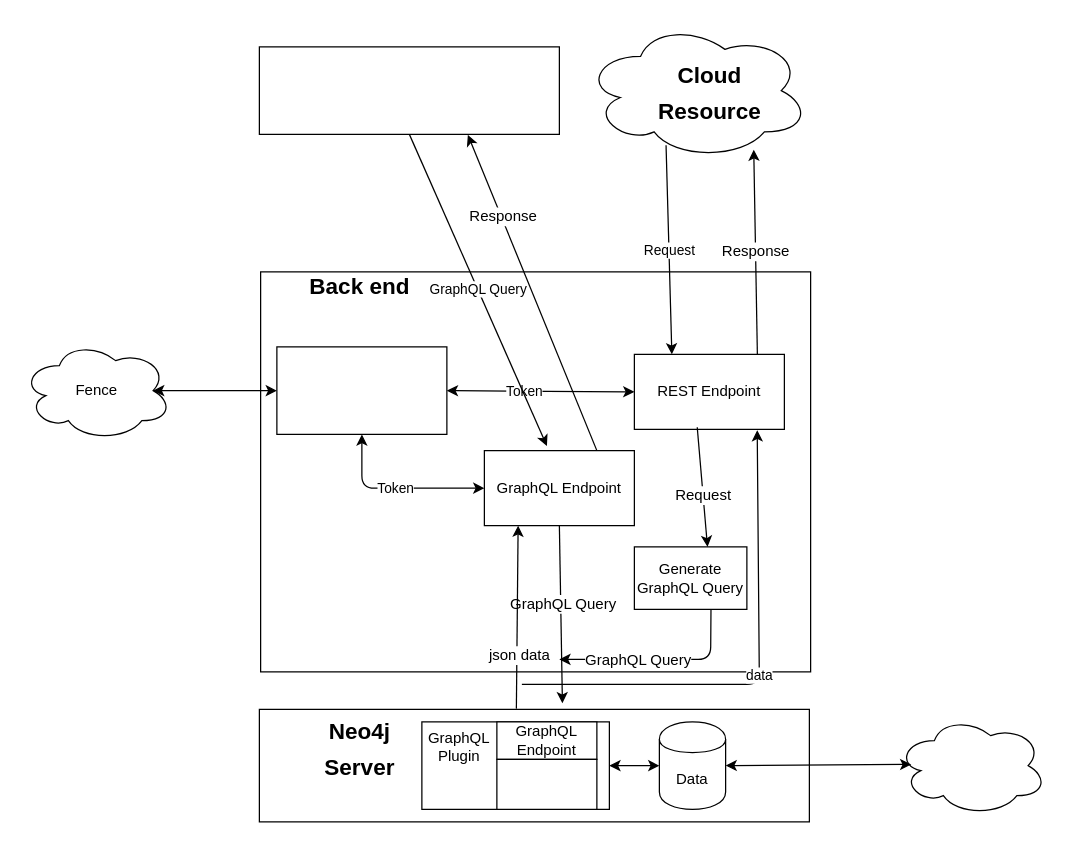
The diagram is 1069 pixels wide and 844 high, and some of its shapes have lost their labels. Here are the shapes that lost their labels. From the top down, the centre of each, then its label:
the point at 408,90: Front end
the point at 361,390: Authorization/ Authentication
the point at 546,783: GraphQL Cypher Translator
the point at 971,765: Data Loader
